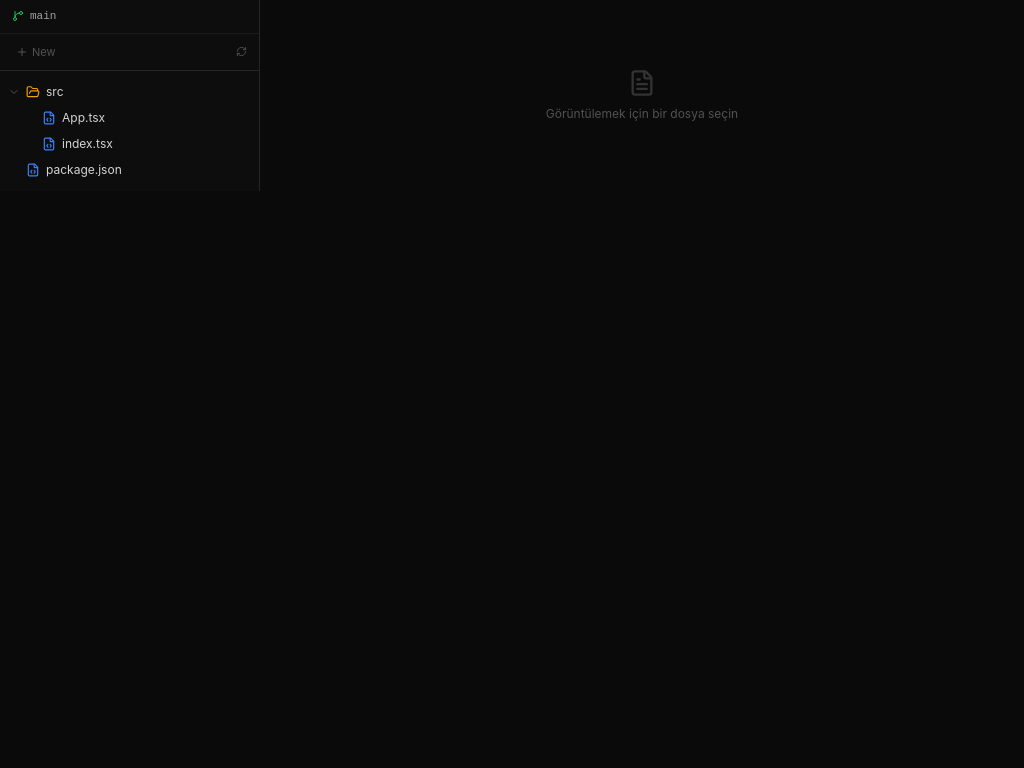
Test: FileExplorer — yeni dosya olusturma › dosya yolu bos iken "Oluştur" butonu hata vermeli
Expected: the text "New" is shown, [32, 44, 56, 60]
Click the button "New" at (36, 52), box [8, 40, 64, 64]
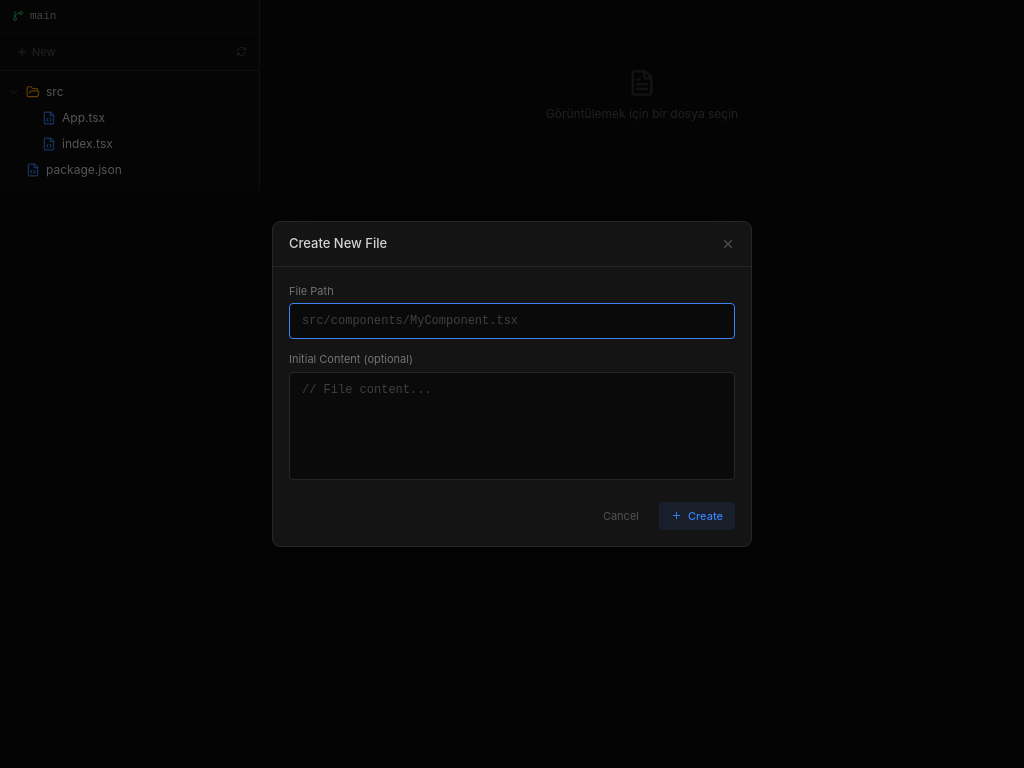
Result: the button "Create" is shown
Click the button "Create" at (697, 516), box [659, 502, 735, 530]
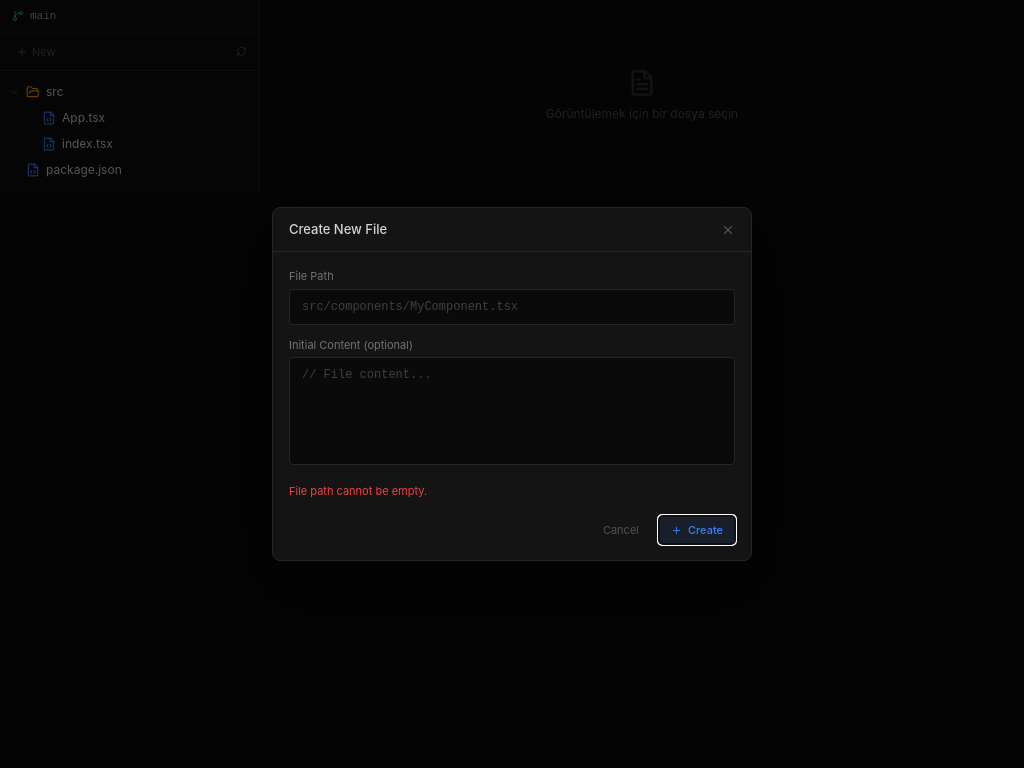
Result: the text "File path cannot be empty." is shown at [289, 484, 427, 498]
